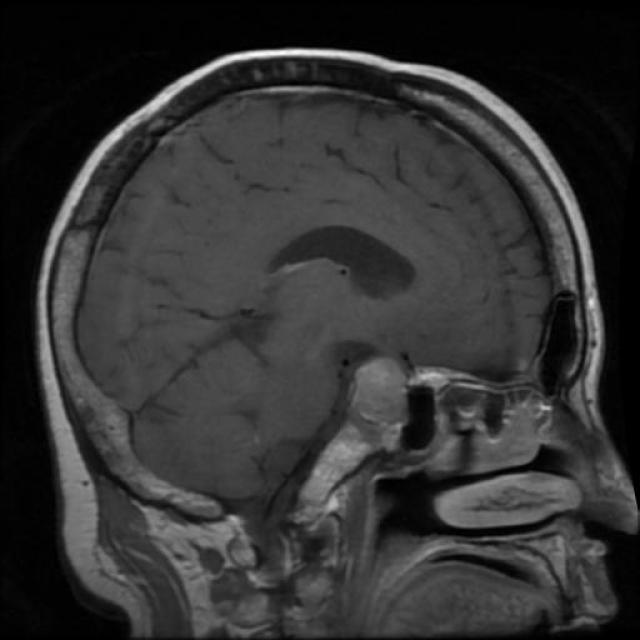pituitary: (340, 349, 418, 437)
